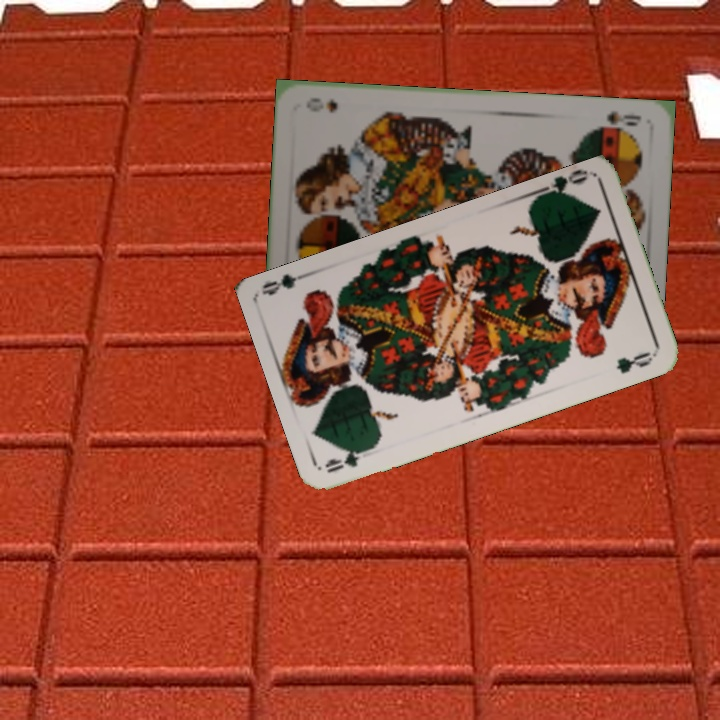GO: (321, 441, 378, 475), (533, 167, 590, 200)
SO: (594, 106, 644, 132)
